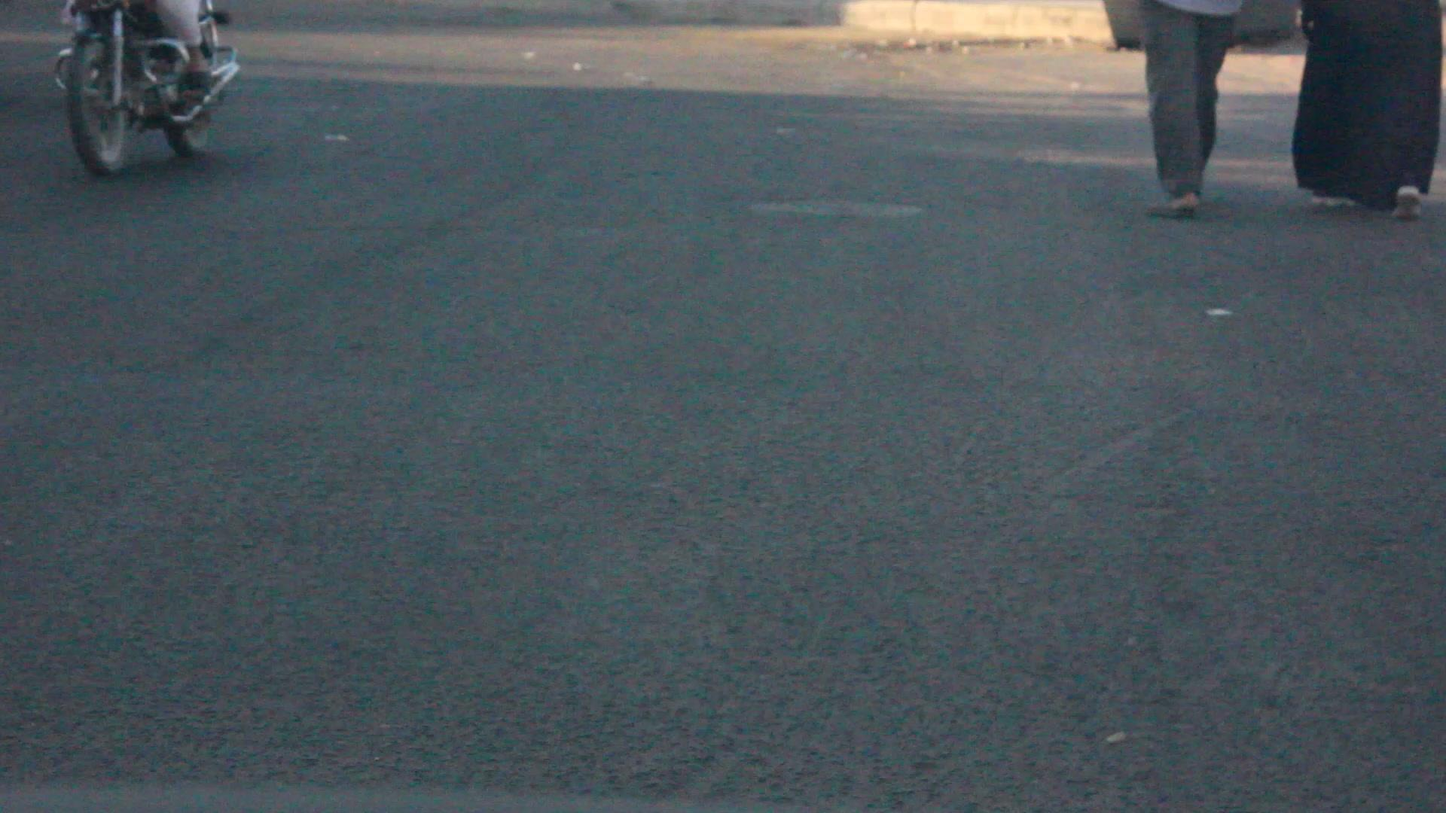Bump: (0, 354, 1446, 551)
